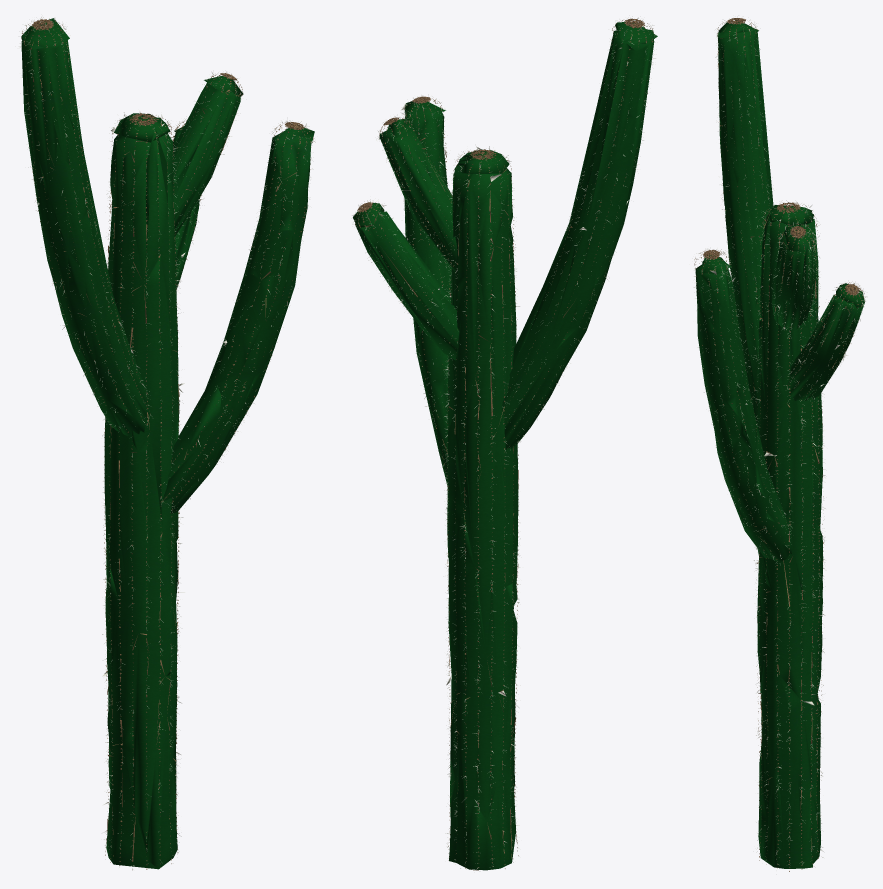
Rendered from cactus.glb.
3 views of the same model, side by side, from view 1: azimuth 30°, elevation 25°; view 2: azimuth 150°, elevation 25°; view 3: azimuth 270°, elevation 25° (orthographic). The views are drawn at different scales.
Visible parts, largest first — view 1: ch1.cactus.006; view 2: ch1.cactus.006; view 3: ch1.cactus.006.
Boxes of the visible parts, x1,y1,x2,y2 form: ch1.cactus.006: [19, 17, 315, 870]; ch1.cactus.006: [352, 16, 657, 871]; ch1.cactus.006: [689, 16, 866, 871].
Bounding box in the file's own units: 0.3758 × 1.14 × 0.2374.
Materials: 3 (2 with a texture image).
